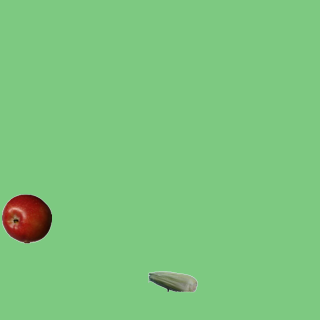Apple Braeburn: (1, 193, 51, 243)
Corn Husk: (147, 256, 197, 306)
